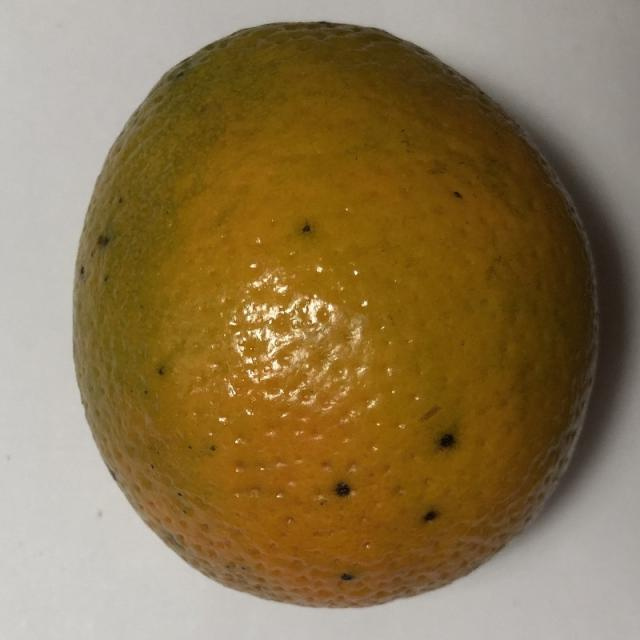blackspot: (48, 10, 616, 635)
